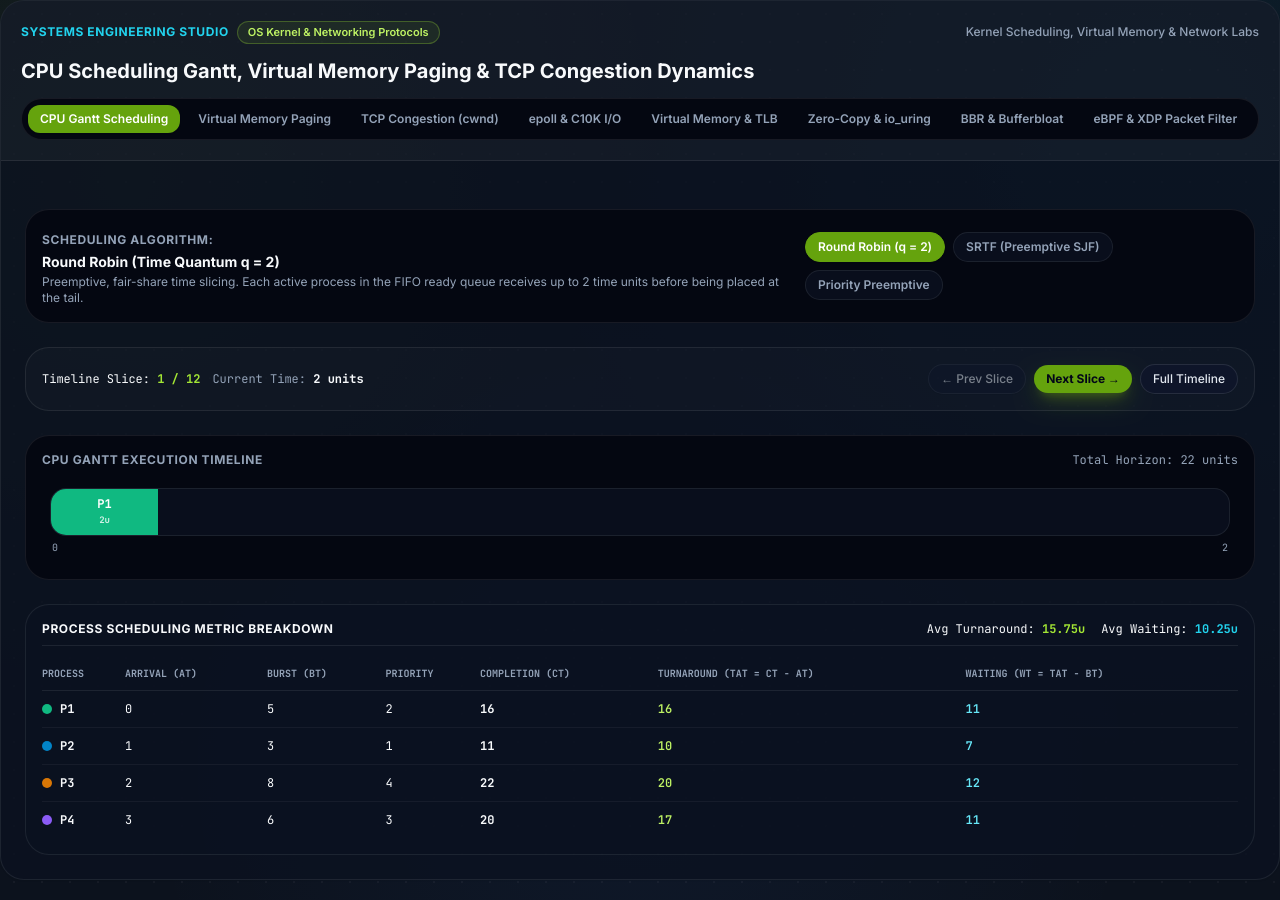
Test: KernelNetworkSandbox › renders CPU Gantt Scheduling by default and tests RR, SRTF, and Priority Preemptive algorithms
Expected: the heading "CPU Scheduling Gantt, Virtual Memory Paging & TCP Congestion Dynamics" is shown, left=21, top=58, right=754, bottom=82
Expected: the button "Round Robin (q = 2)" is shown, left=805, top=232, right=945, bottom=262
Note: Switch to SRTF
Click the button "SRTF (Preemptive SJF)": (1033, 246) left=953, top=232, right=1113, bottom=262
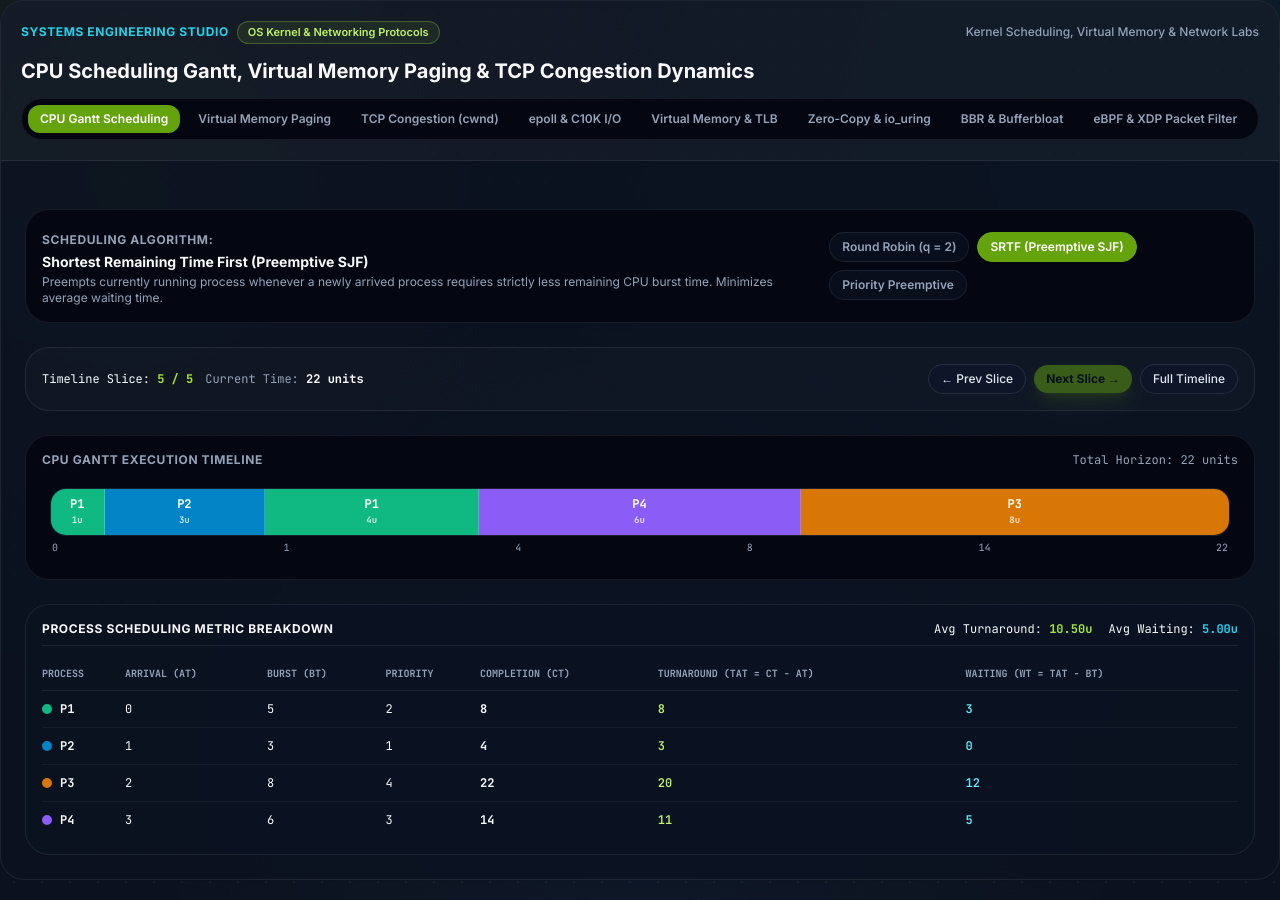
Now the heading "Shortest Remaining Time First (Preemptive SJF)" is shown, box left=42, top=252, right=369, bottom=270
Note: Switch to Priority
Click the button "Priority Preemptive": (898, 284) left=829, top=270, right=967, bottom=300
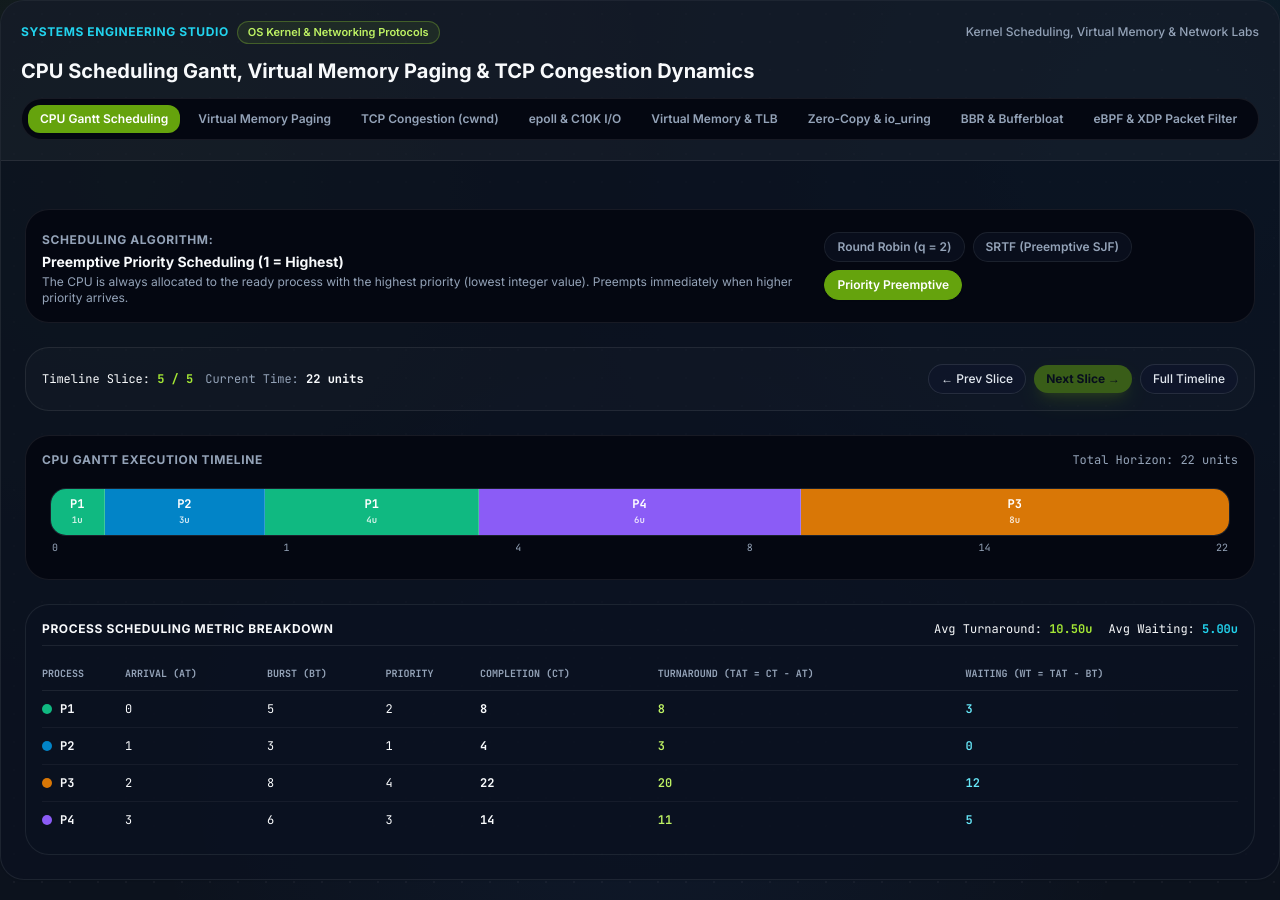
Now the heading "Preemptive Priority Scheduling (1 = Highest)" is shown, box left=42, top=252, right=344, bottom=270
